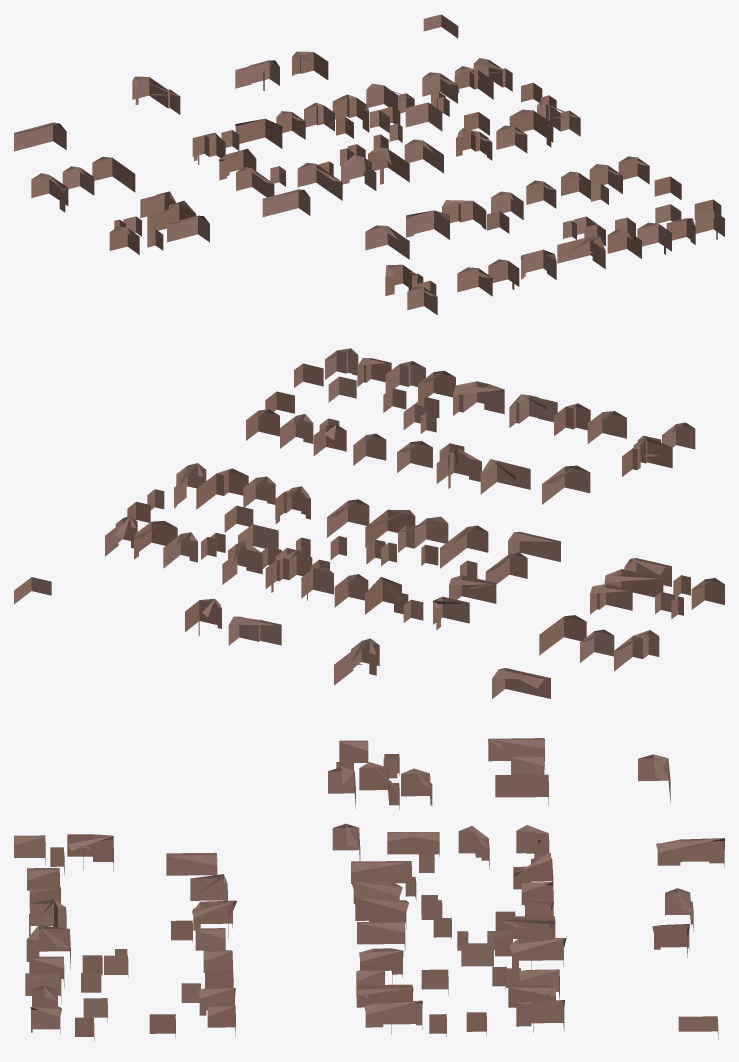
Rendered from c_1645_17827_buildings_residential.glb.
The picture shows the model from 3 angles, top to bottom: view 1: azimuth 30°, elevation 25°; view 2: azimuth 150°, elevation 25°; view 3: azimuth 270°, elevation 25°; orthographic projection. The views are drawn at different scales.
Visible parts, largest first — view 1: geometry_0; view 2: geometry_0; view 3: geometry_0.
Part boxes in pixels (x1,y1,x2,y2): geometry_0: (14,14,724,315); geometry_0: (14,348,724,698); geometry_0: (14,738,724,1041).
Size of the model in its own units: 253 by 10.94 by 265.
